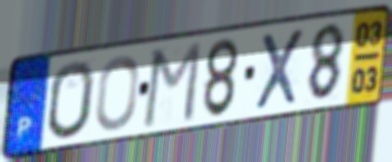8: (304, 20, 348, 104), (201, 36, 241, 119)
M: (140, 39, 204, 131)
O: (46, 59, 96, 143), (93, 53, 141, 134)
X: (253, 25, 306, 113)
